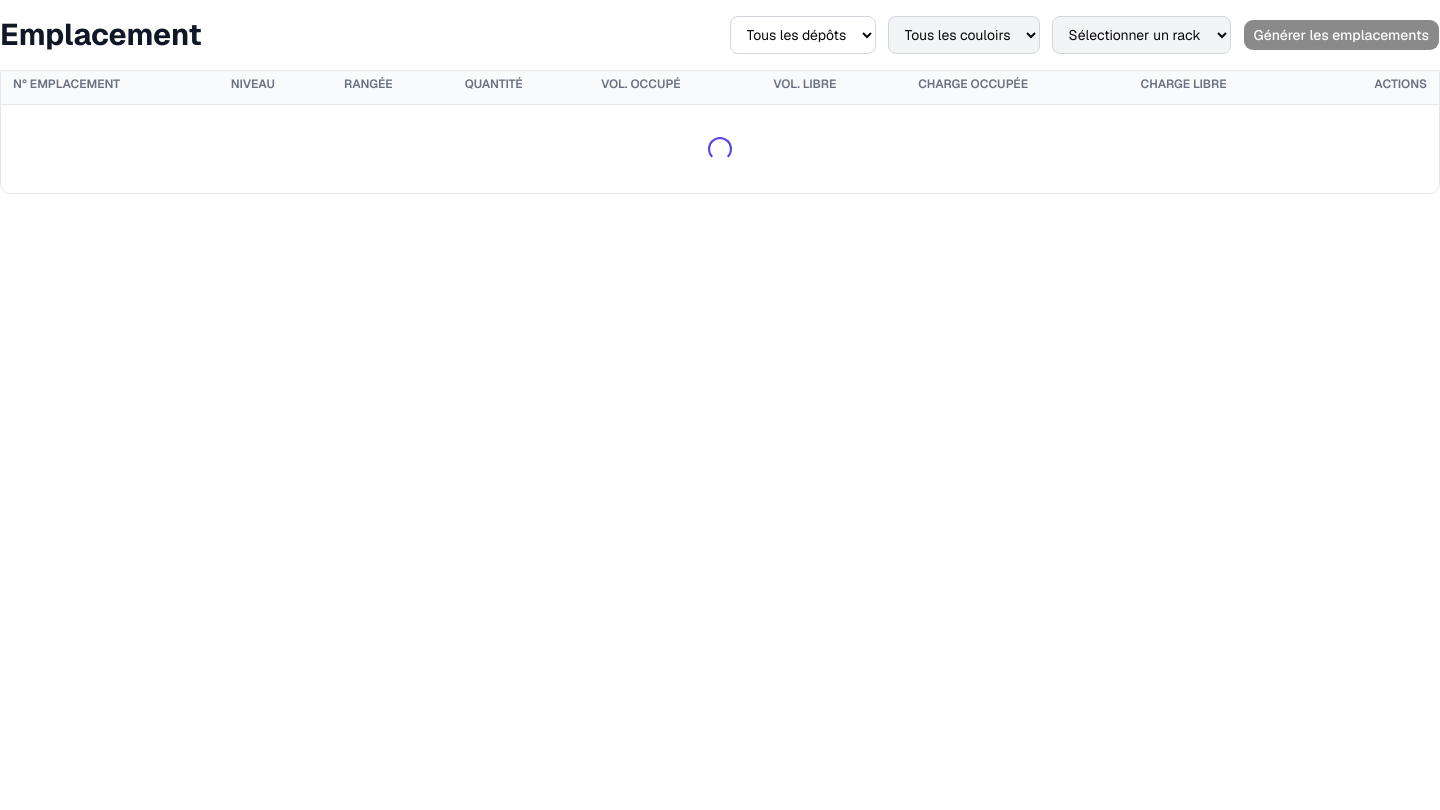
Scenario: shows delete confirmation dialog
The width and height of the screenshot is (1440, 810).
Select "101 - Dépôt A" in the 1st dropdown at (803, 35), box [730, 16, 876, 54]
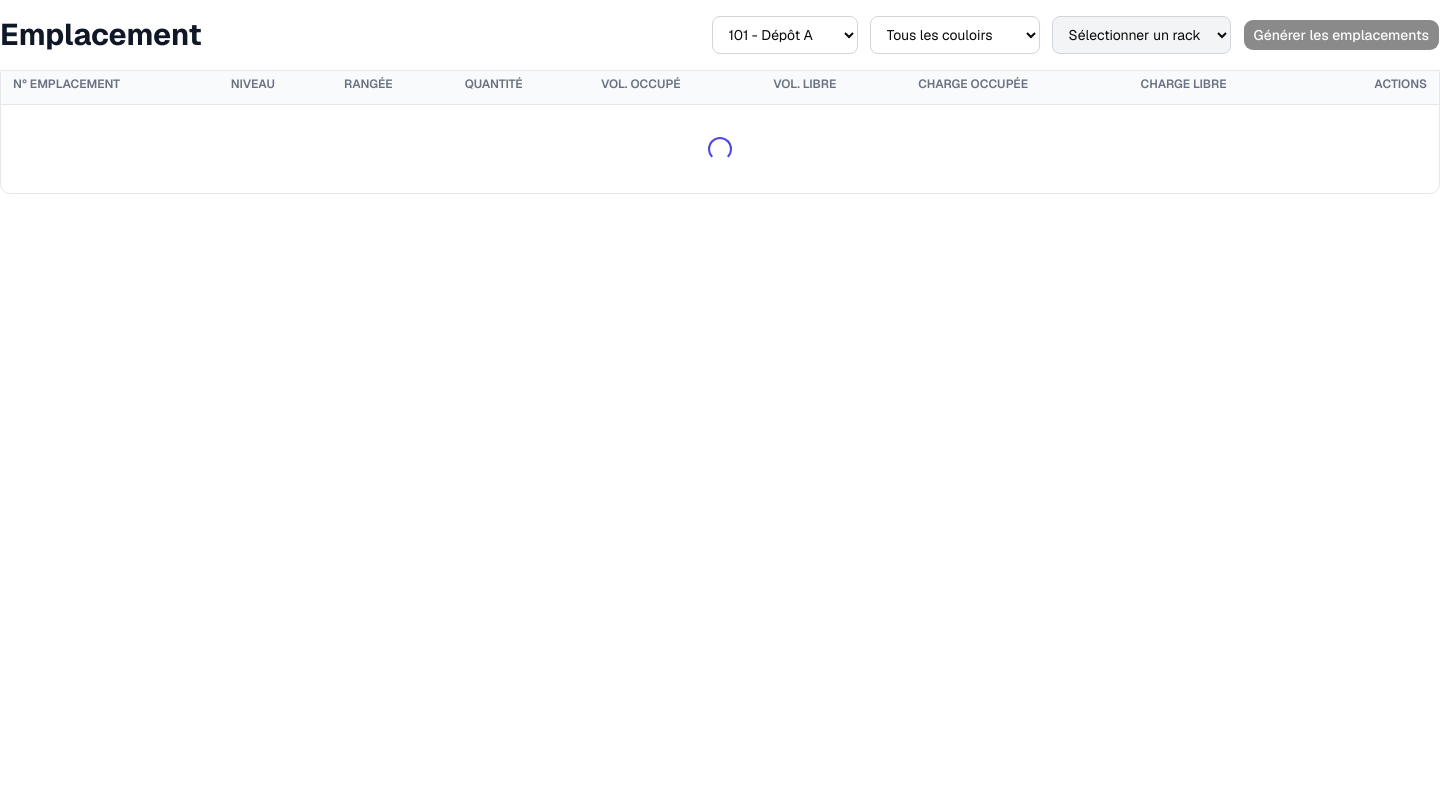
Select "C01 - Couloir Alpha" in the 2nd dropdown at (955, 35), box [870, 16, 1040, 54]
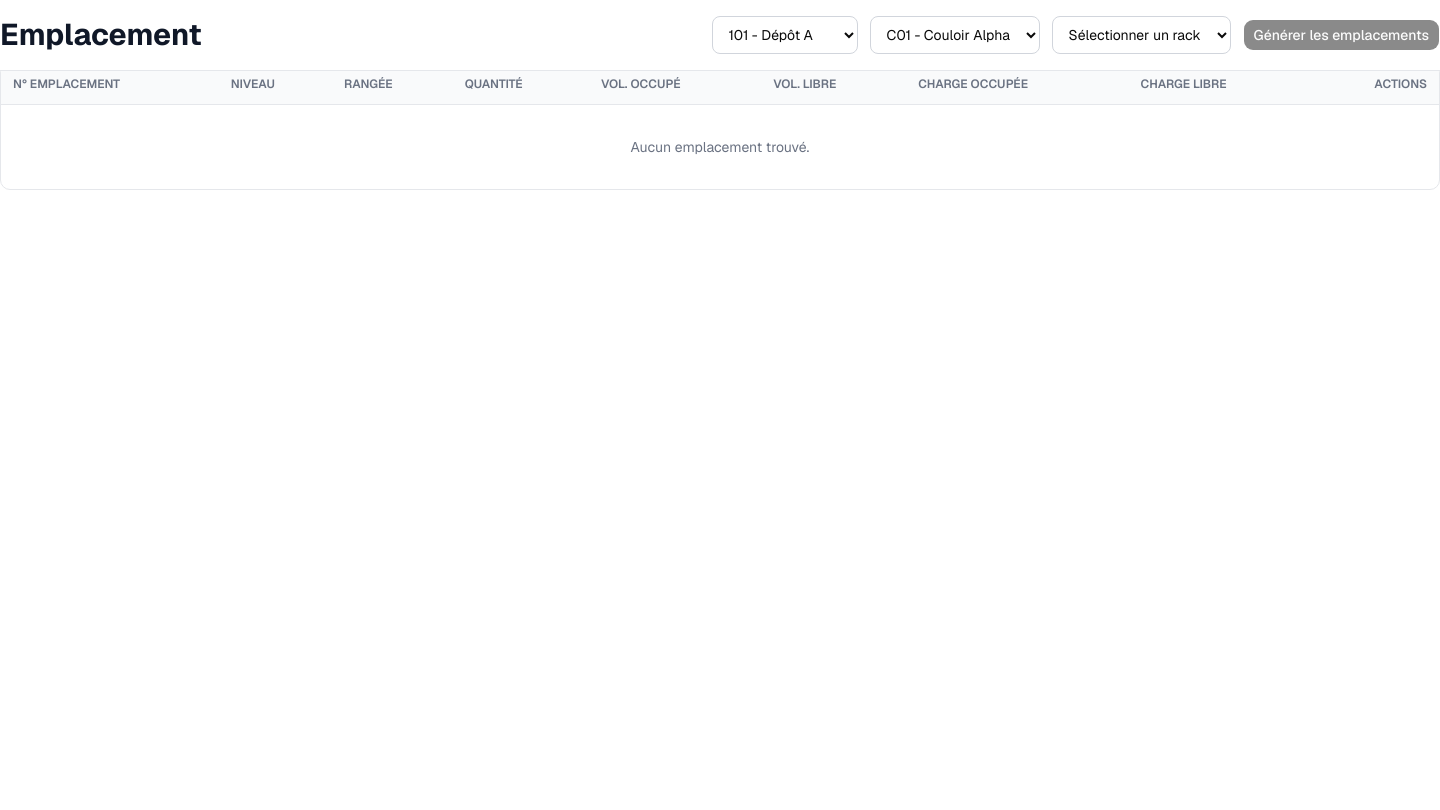
Select "R01" in the 3rd dropdown at (1141, 35), box [1052, 16, 1231, 54]
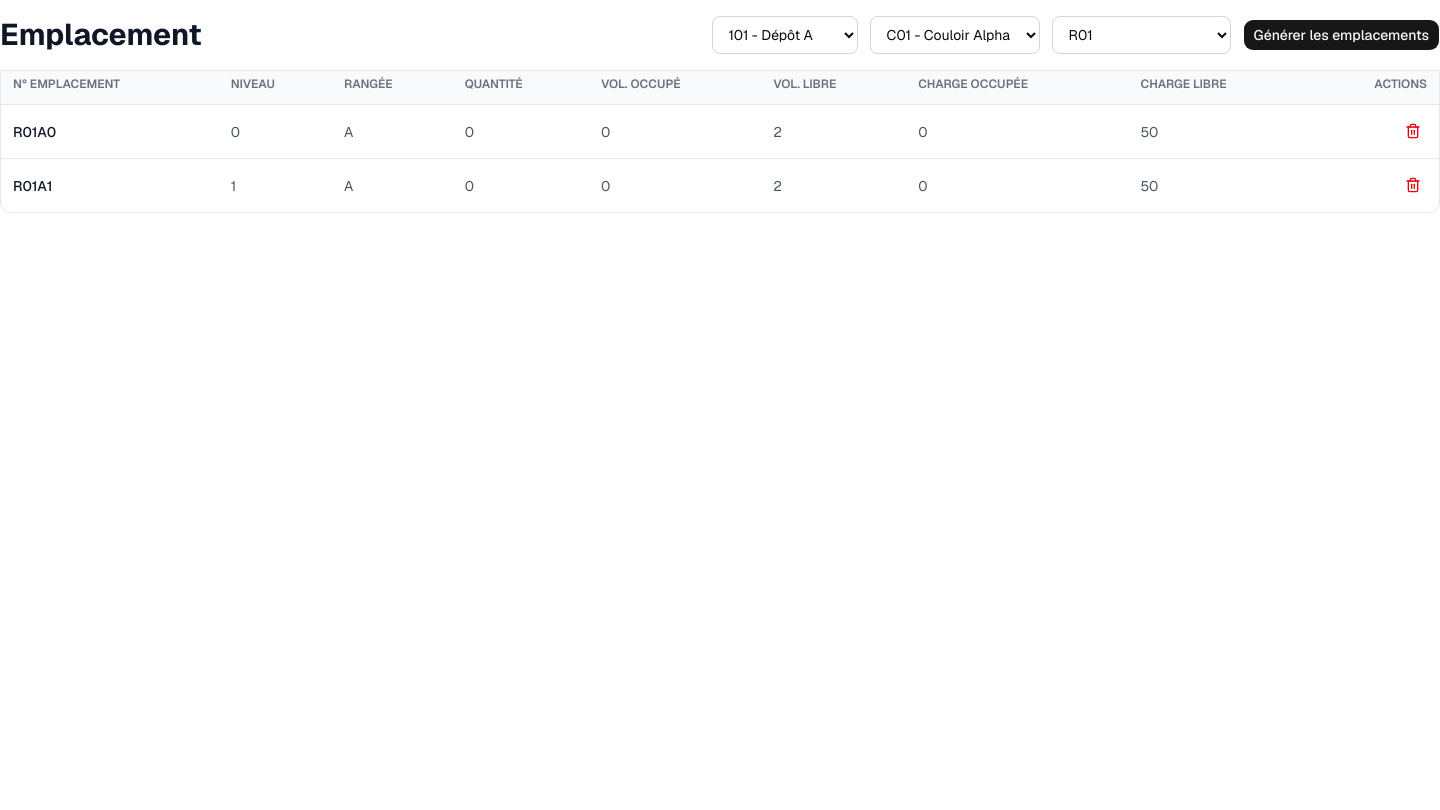
Expected: the text "R01A0" is shown, [1, 104, 219, 158]
Click the button named "supprimer" in the row of "R01A0".
click(1413, 131)  # box [1399, 117, 1427, 145]
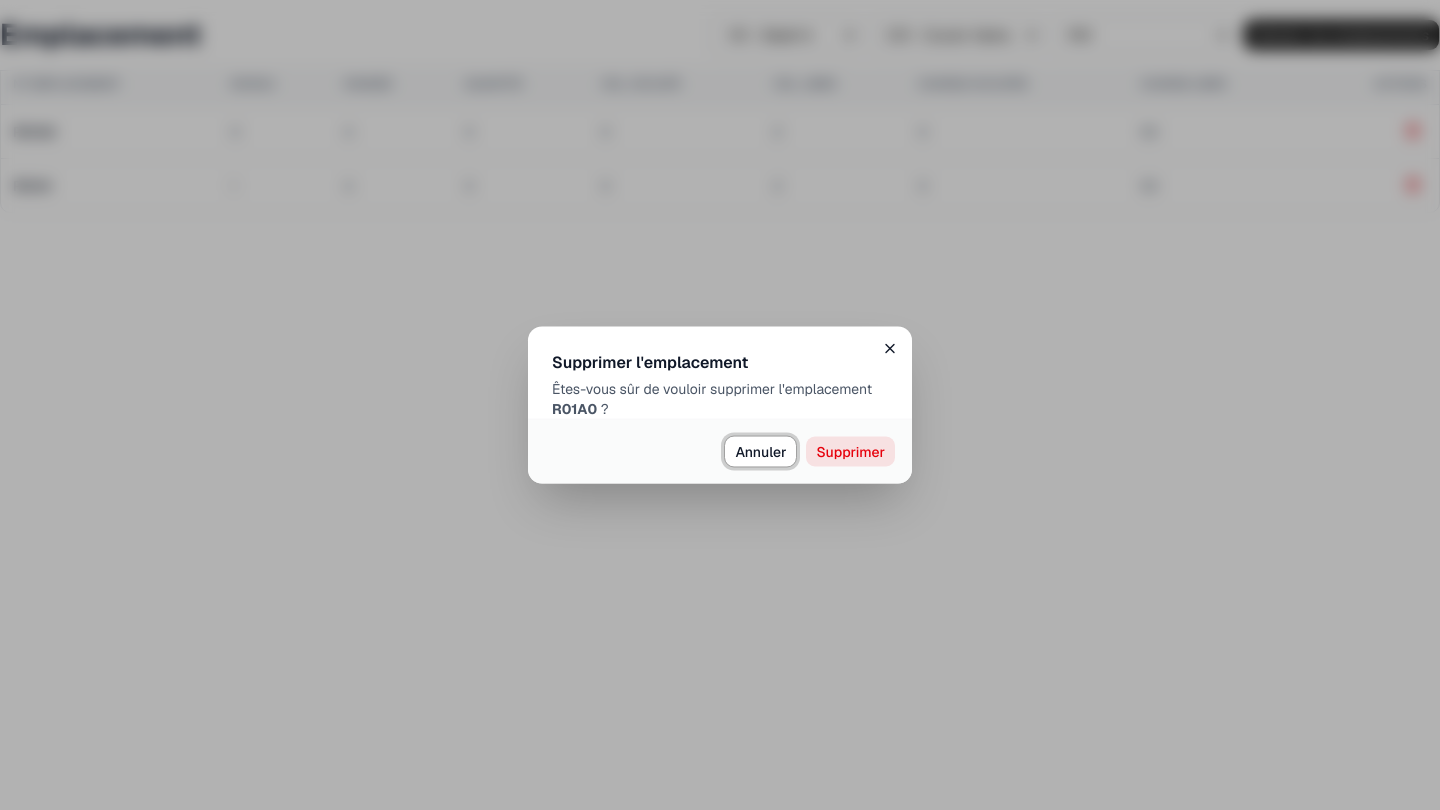
Expected: the text "Êtes-vous sûr de vouloir supprimer l'emplacement R01A0 ?" is shown, [552, 378, 888, 418]
